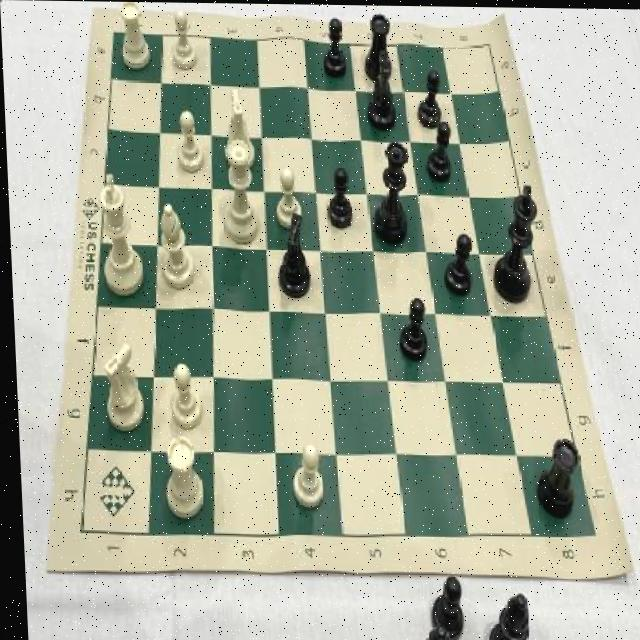black-bishop: (482, 178, 542, 307)
black-king: (269, 209, 315, 301), (360, 49, 403, 132)
black-knight: (391, 291, 430, 363), (440, 225, 475, 301), (320, 164, 355, 232), (317, 11, 351, 80), (422, 119, 455, 186), (415, 67, 446, 131)
black-pawn: (363, 140, 414, 250)
black-queen: (527, 421, 579, 519), (357, 7, 394, 79)
black-rook: (152, 197, 197, 295)
white-bishop: (88, 170, 144, 302)
white-knight: (283, 435, 322, 514), (163, 357, 202, 432), (170, 107, 208, 180), (267, 161, 302, 230), (165, 7, 199, 72)
white-pawn: (212, 136, 263, 245)
white-queen: (93, 336, 145, 435), (152, 431, 204, 523), (217, 81, 258, 169), (109, 1, 153, 71)
